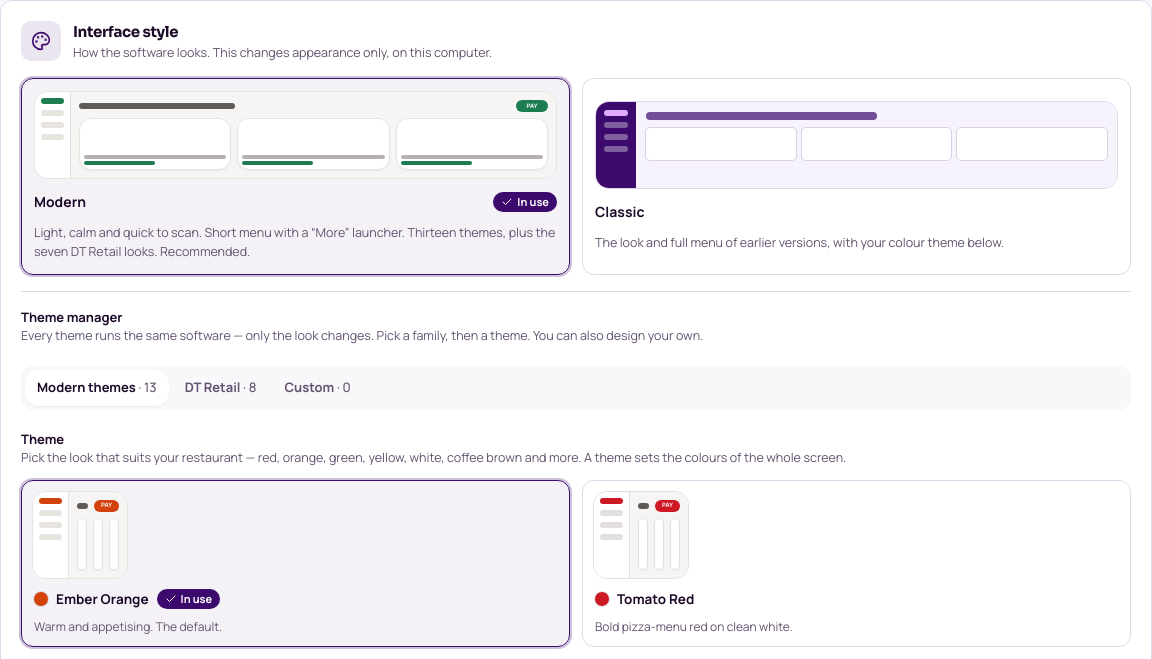
it: Settings → Theme gallery › offers thirteen themes; choosing one applies it and drops any accent override
Expected: the radio button labelled "PAY Ember Orange In use Warm and appetising. The default." is shown, [21,480,570,647]
Step 1. Click the radio button labelled "PAY Tomato Red Bold pizza-menu red on clean white." → {"x": 641, "y": 535}, box [582,480,1131,647]
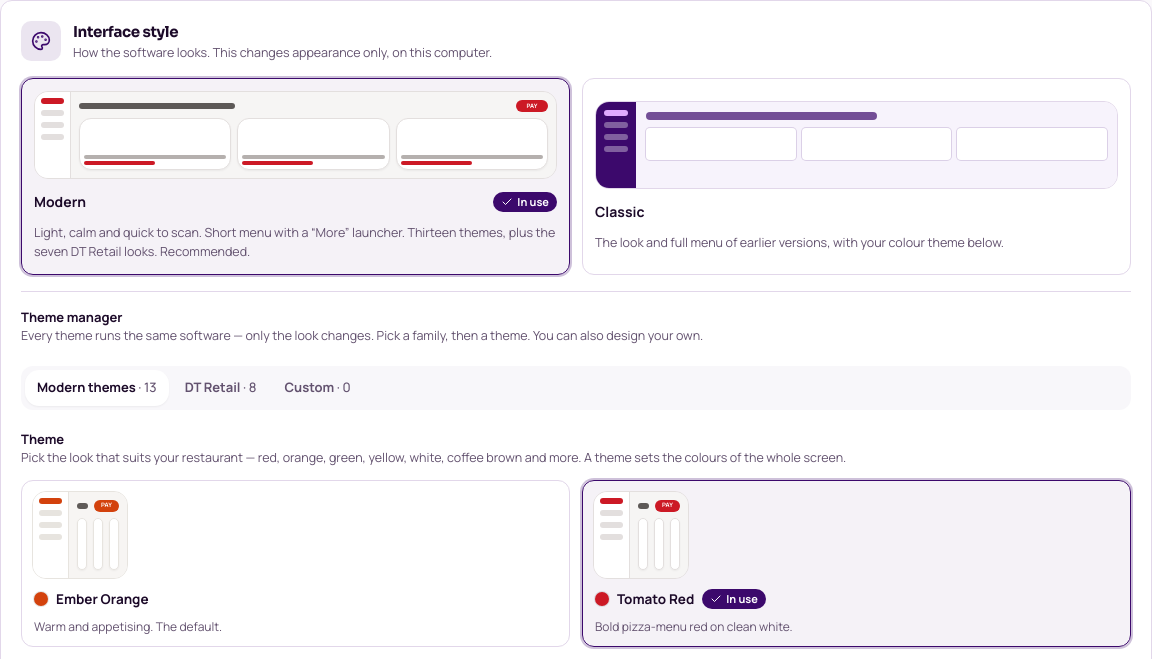
Now the radio button labelled "PAY Tomato Red In use Bold pizza-menu red on clean white." is checked, box [582,480,1131,647]
